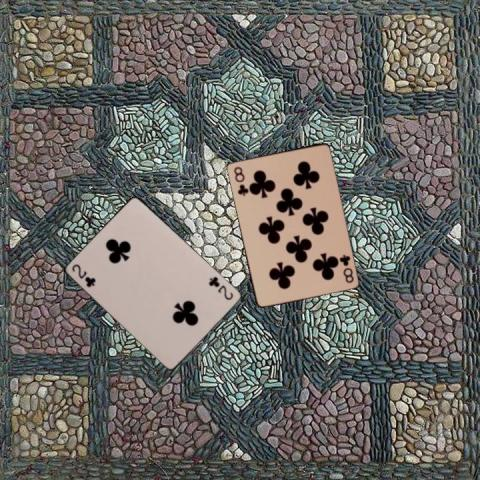2c: (206, 274, 235, 302), (70, 261, 98, 289)
8c: (336, 251, 355, 284), (230, 164, 248, 198)
